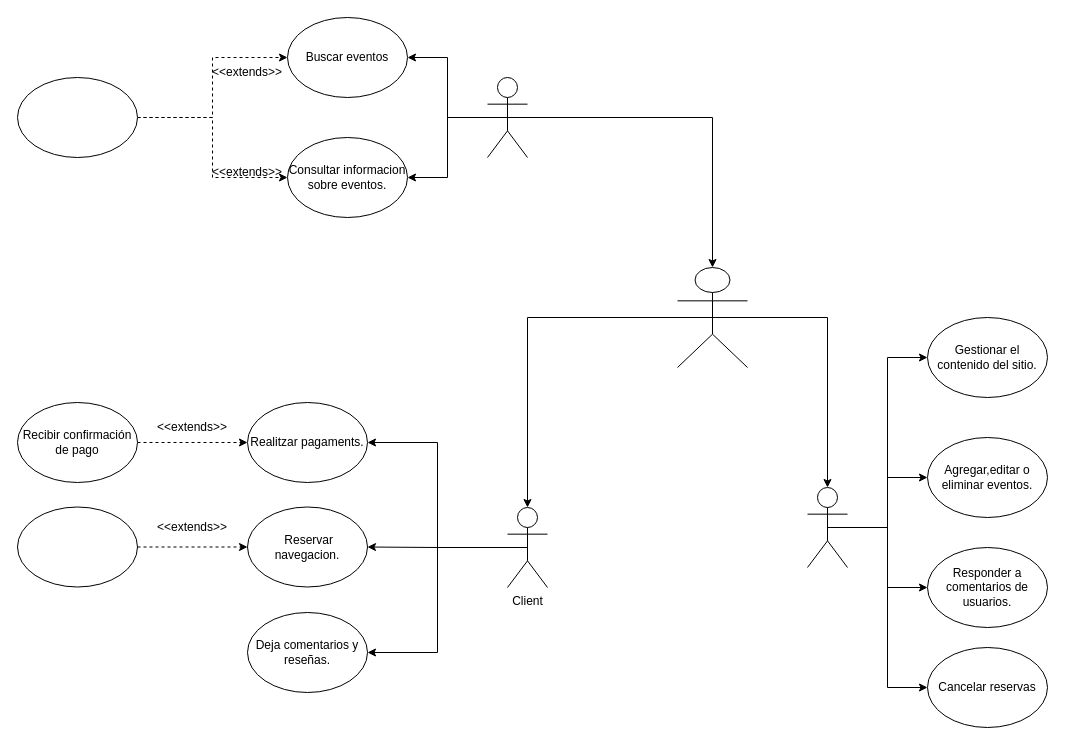
This 1065x745 diagram has some shape labels left out. Here are the shapes that lost their labels. From the top down, the box of each, then its label:
(16, 76, 138, 158): Registrarse
(486, 76, 528, 158): Visitant
(676, 266, 748, 368): Autenticador
(16, 506, 138, 587): Cancelar reserva
(806, 486, 848, 568): Administrador
